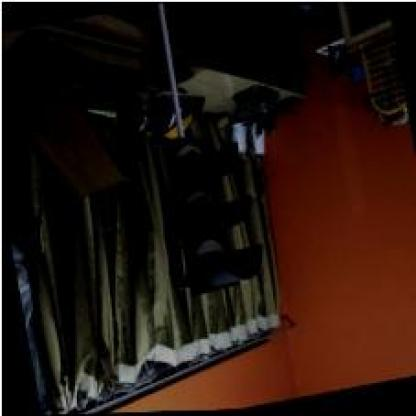green: (161, 128, 264, 297)
